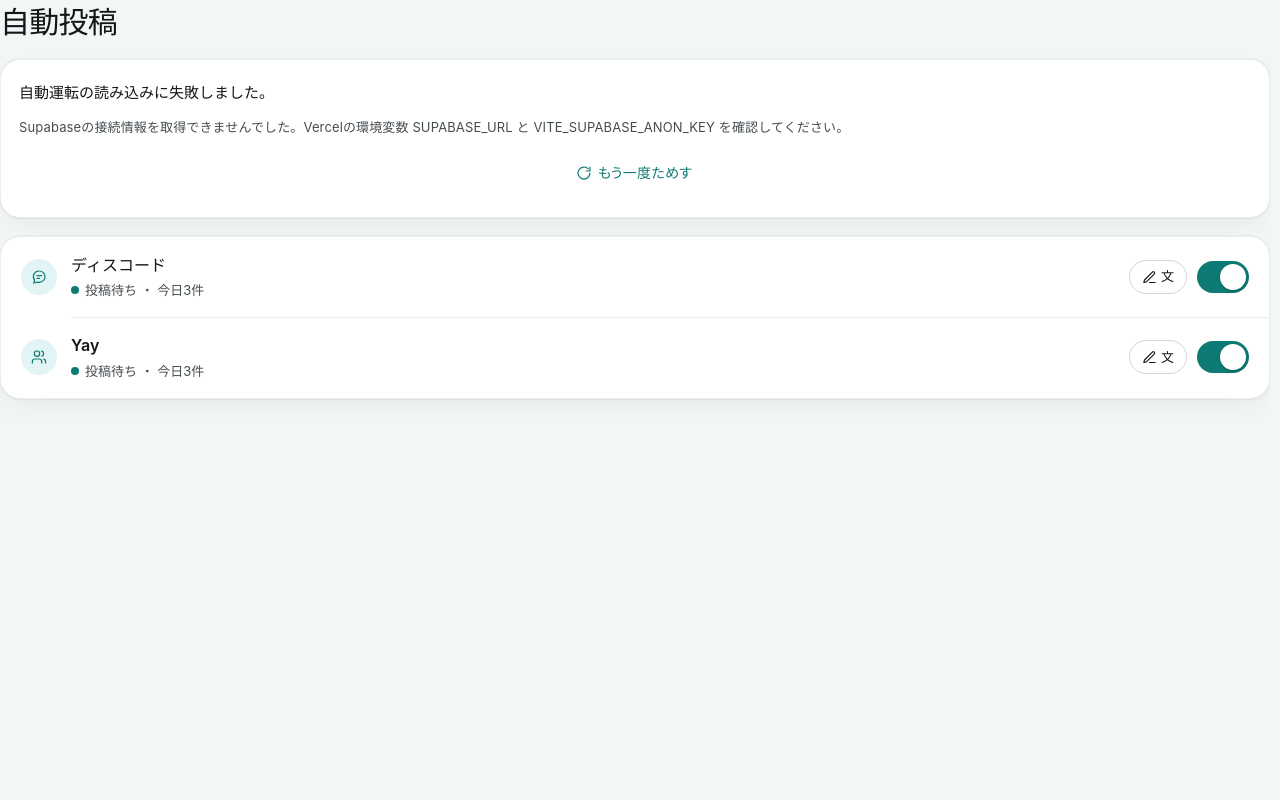
Test: AutoPostHome（アプリを開いて最初の1画面） › 「文」でポップアップが開き、いまの文を見て、直して保存できる
Click the button named "ディスコードの文を見る・直す".
click(1158, 277)  # box top-left (1129, 260), bottom-right (1187, 294)
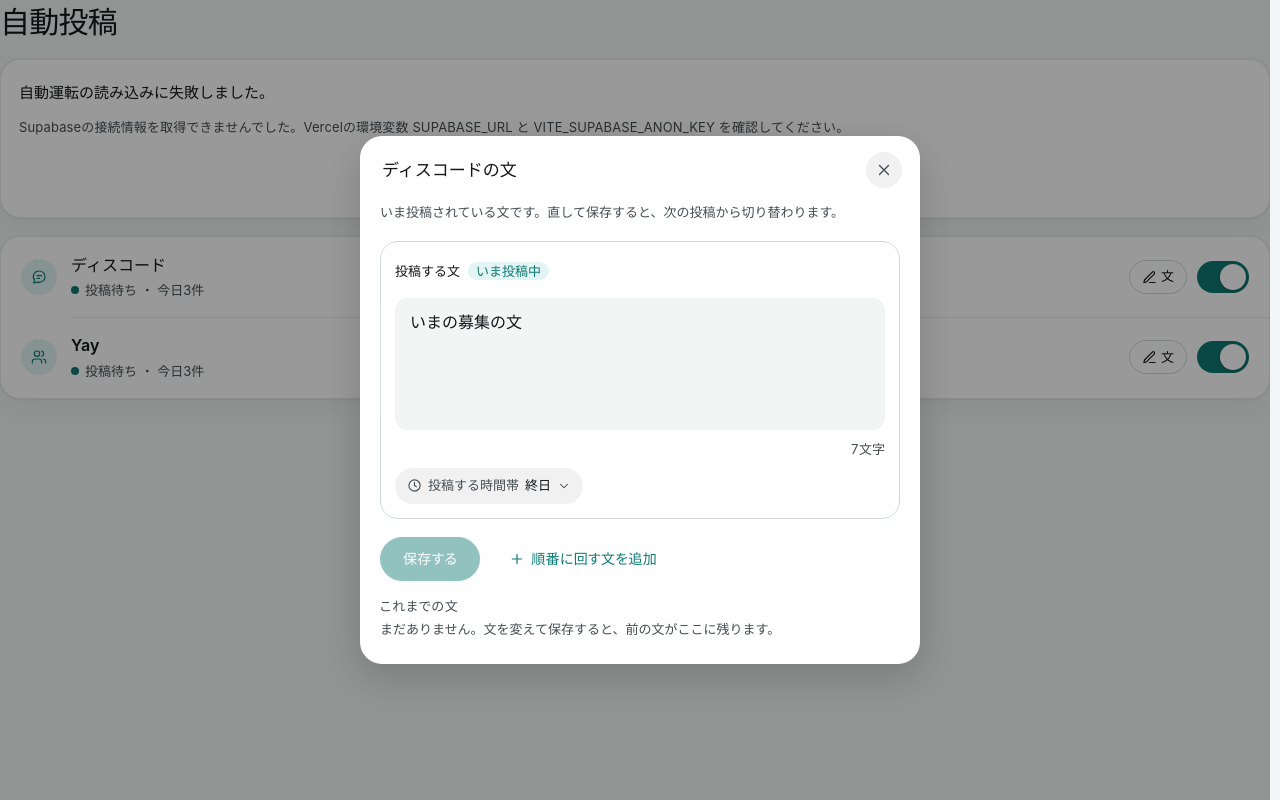
Result: the text box named "投稿する文" holds "いまの募集の文"
Result: the button "保存する" is disabled at top-left (380, 537), bottom-right (480, 581)
Replace the text in the text box named "投稿する文" with "直した募集の文" at (640, 364), box top-left (395, 298), bottom-right (885, 430)
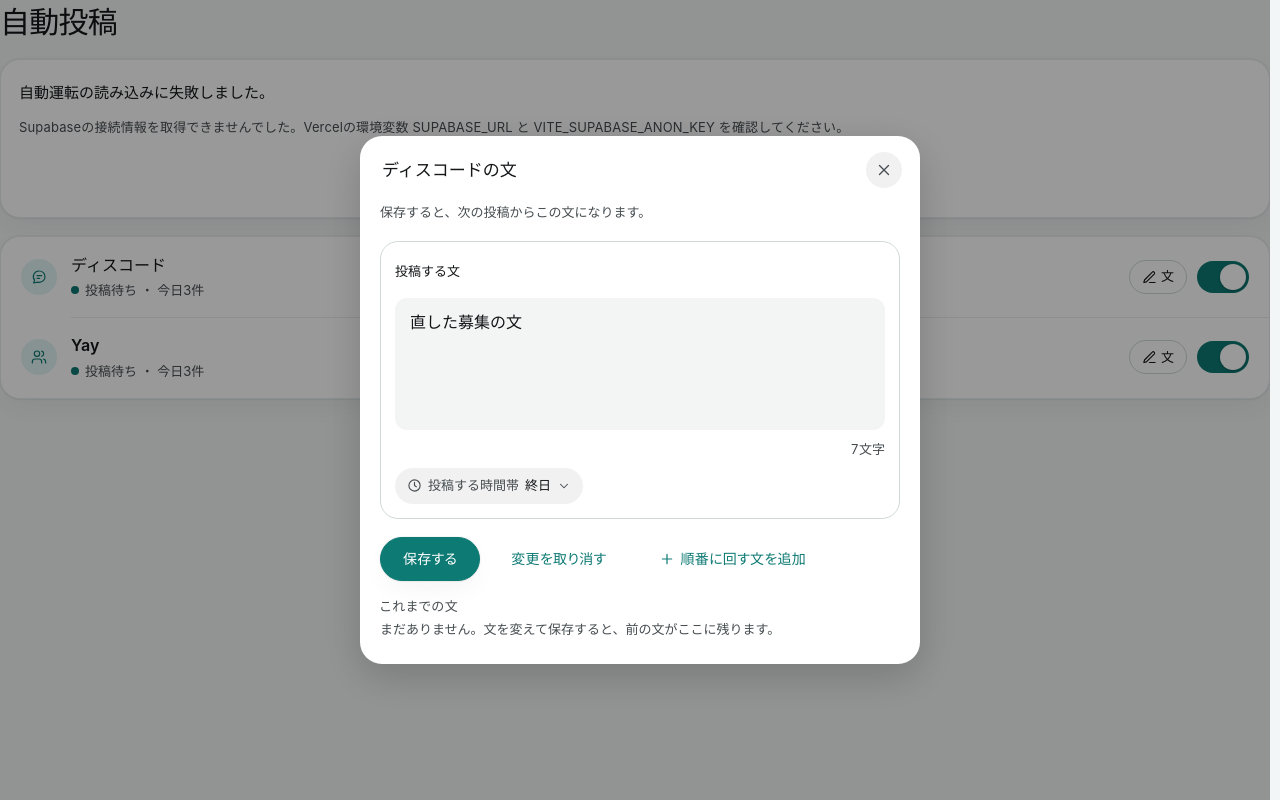
Click the button "保存する".
click(430, 559)  # box top-left (380, 537), bottom-right (480, 581)
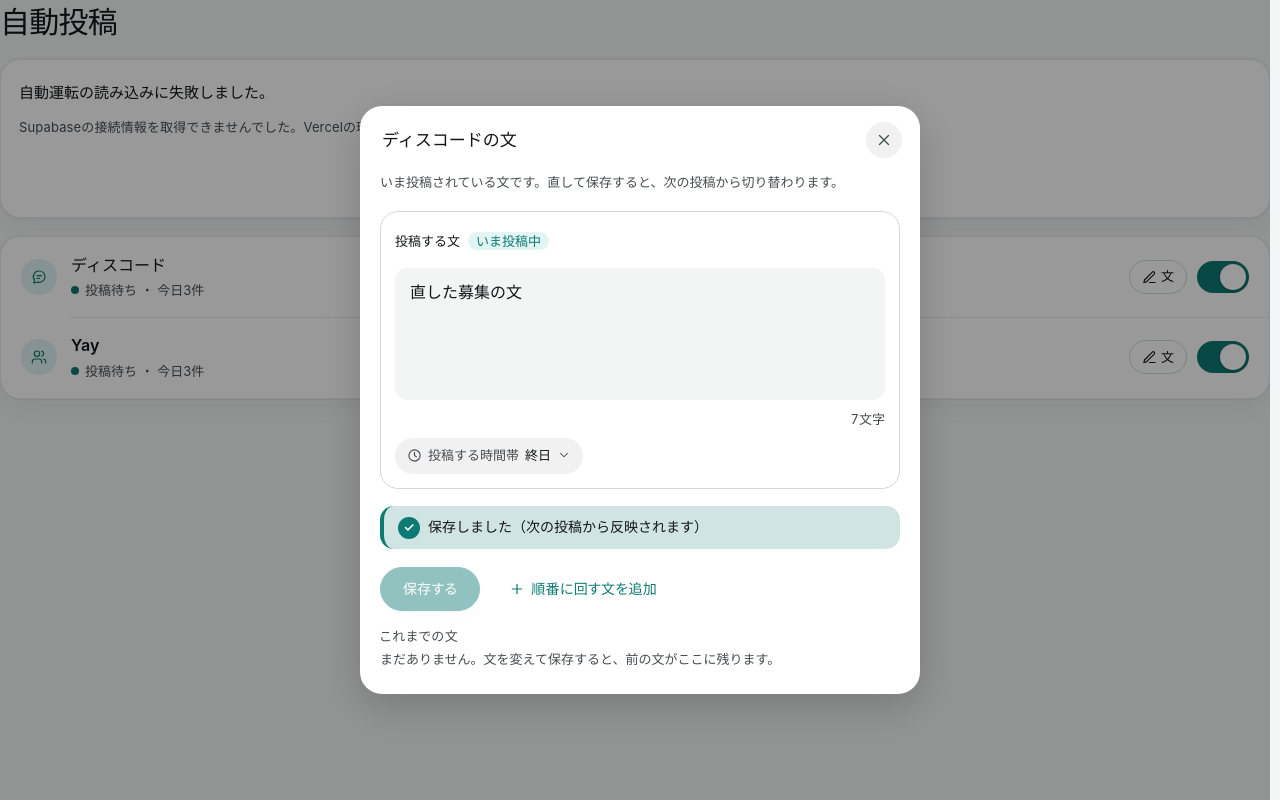
Result: the text "保存しました（次の投稿から反映されます）" is shown at top-left (380, 506), bottom-right (900, 549)
